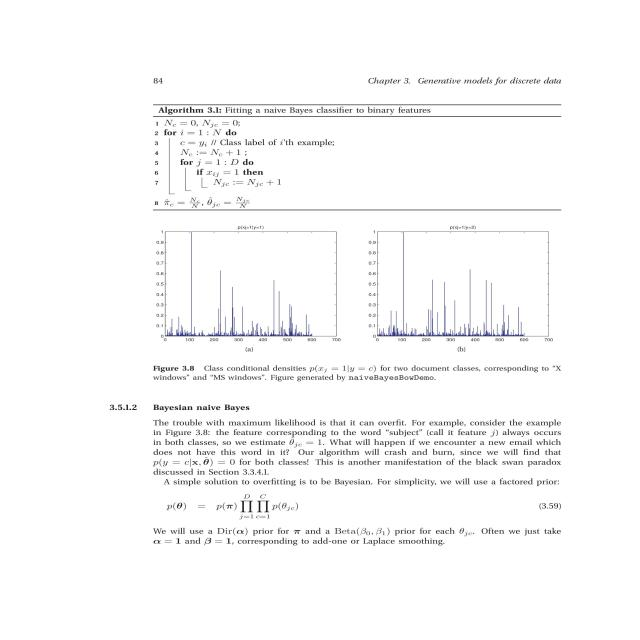diagram: (115, 94, 612, 384)
